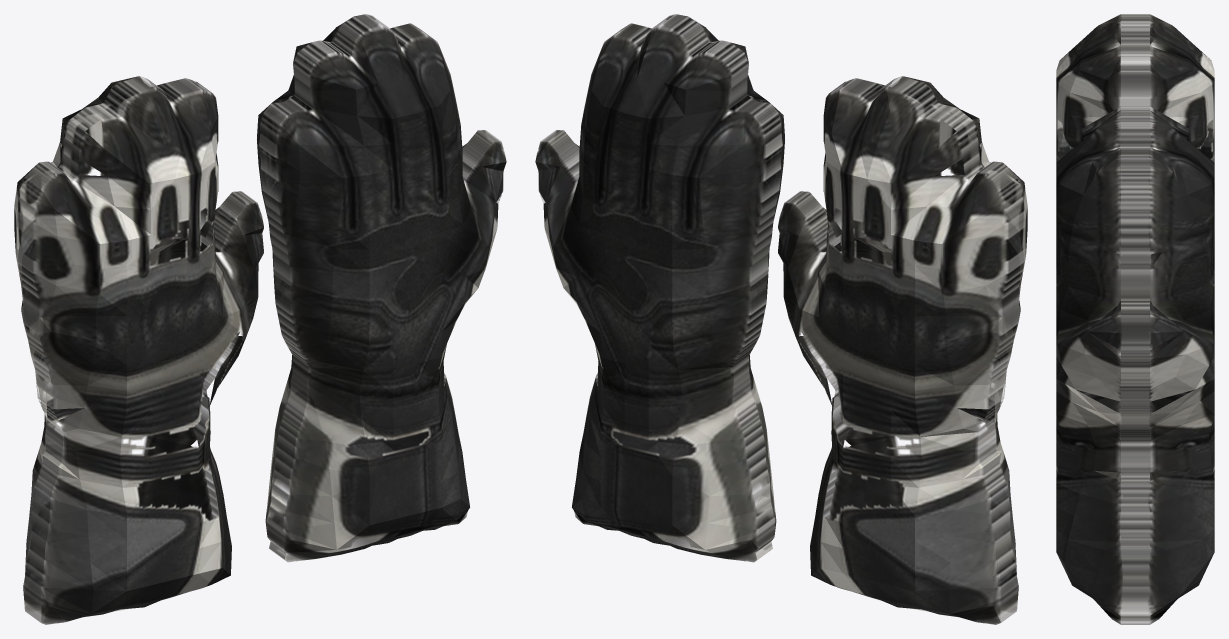
Rendered from kriega-nomad-touring-glove-093.glb.
3 renders of one model, left to right at view 1: azimuth 30°, elevation 25°; view 2: azimuth 150°, elevation 25°; view 3: azimuth 270°, elevation 25°, orthographic. The views are drawn at different scales.
Parts seen in each view (by area): view 1: world; view 2: world; view 3: world.
Boxes of the visible parts, bbox=[...] form: world: bbox=[14, 14, 506, 624]; world: bbox=[535, 14, 1027, 624]; world: bbox=[1056, 14, 1214, 624].
Size of the model in its own units: 0.9457 by 1 by 0.3.
1 material, 1 textured.
